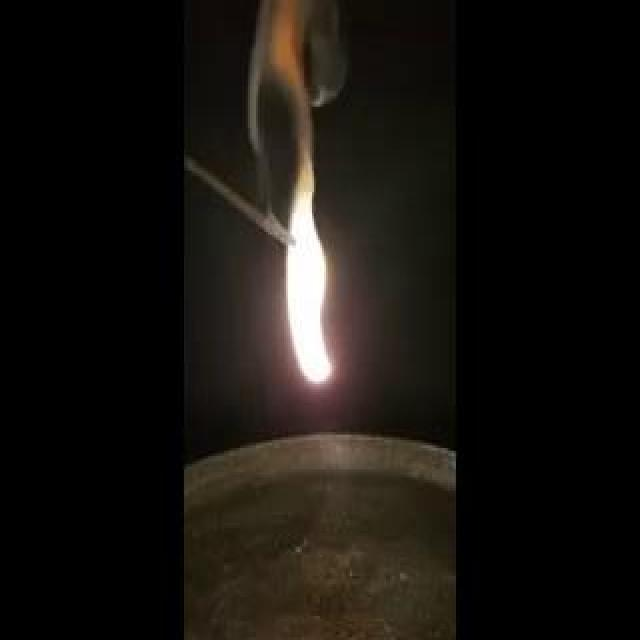Fire: (259, 64, 343, 374)
Smoke: (228, 11, 381, 199)
